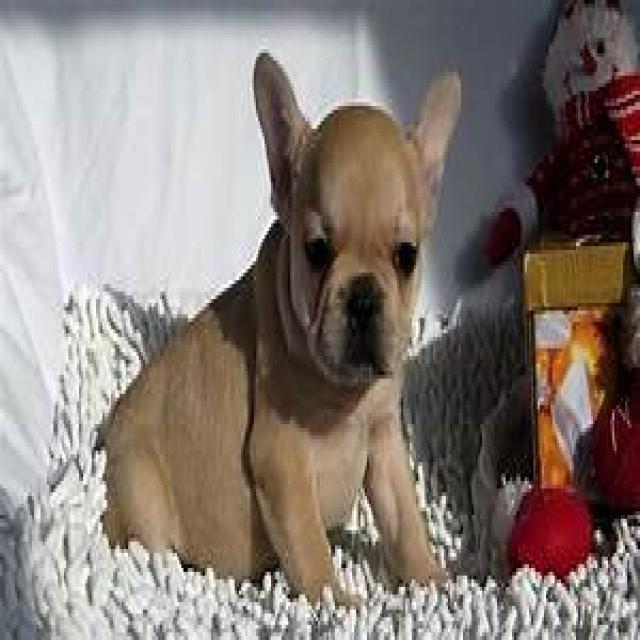FIL: (83, 46, 458, 606)
